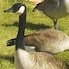goose: (2, 2, 62, 69)
